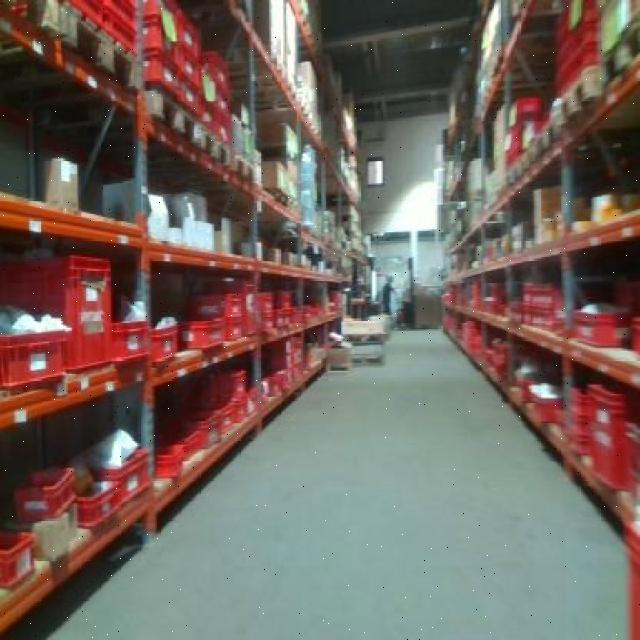pallet: (32, 1, 150, 105), (542, 51, 607, 147), (137, 78, 204, 156), (589, 7, 638, 103), (194, 121, 235, 176), (226, 149, 257, 190), (339, 329, 386, 346), (343, 354, 391, 369), (322, 360, 352, 376)
